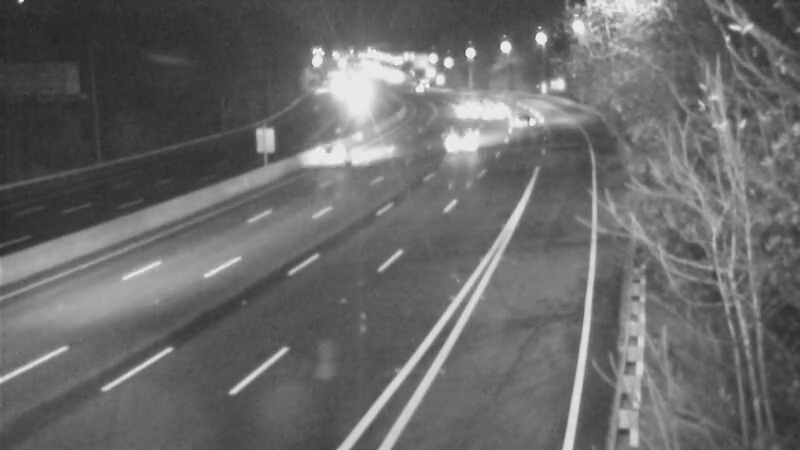vehicle: (297, 111, 377, 191), (434, 87, 484, 137), (468, 86, 518, 136), (496, 88, 546, 138), (426, 113, 476, 163)
